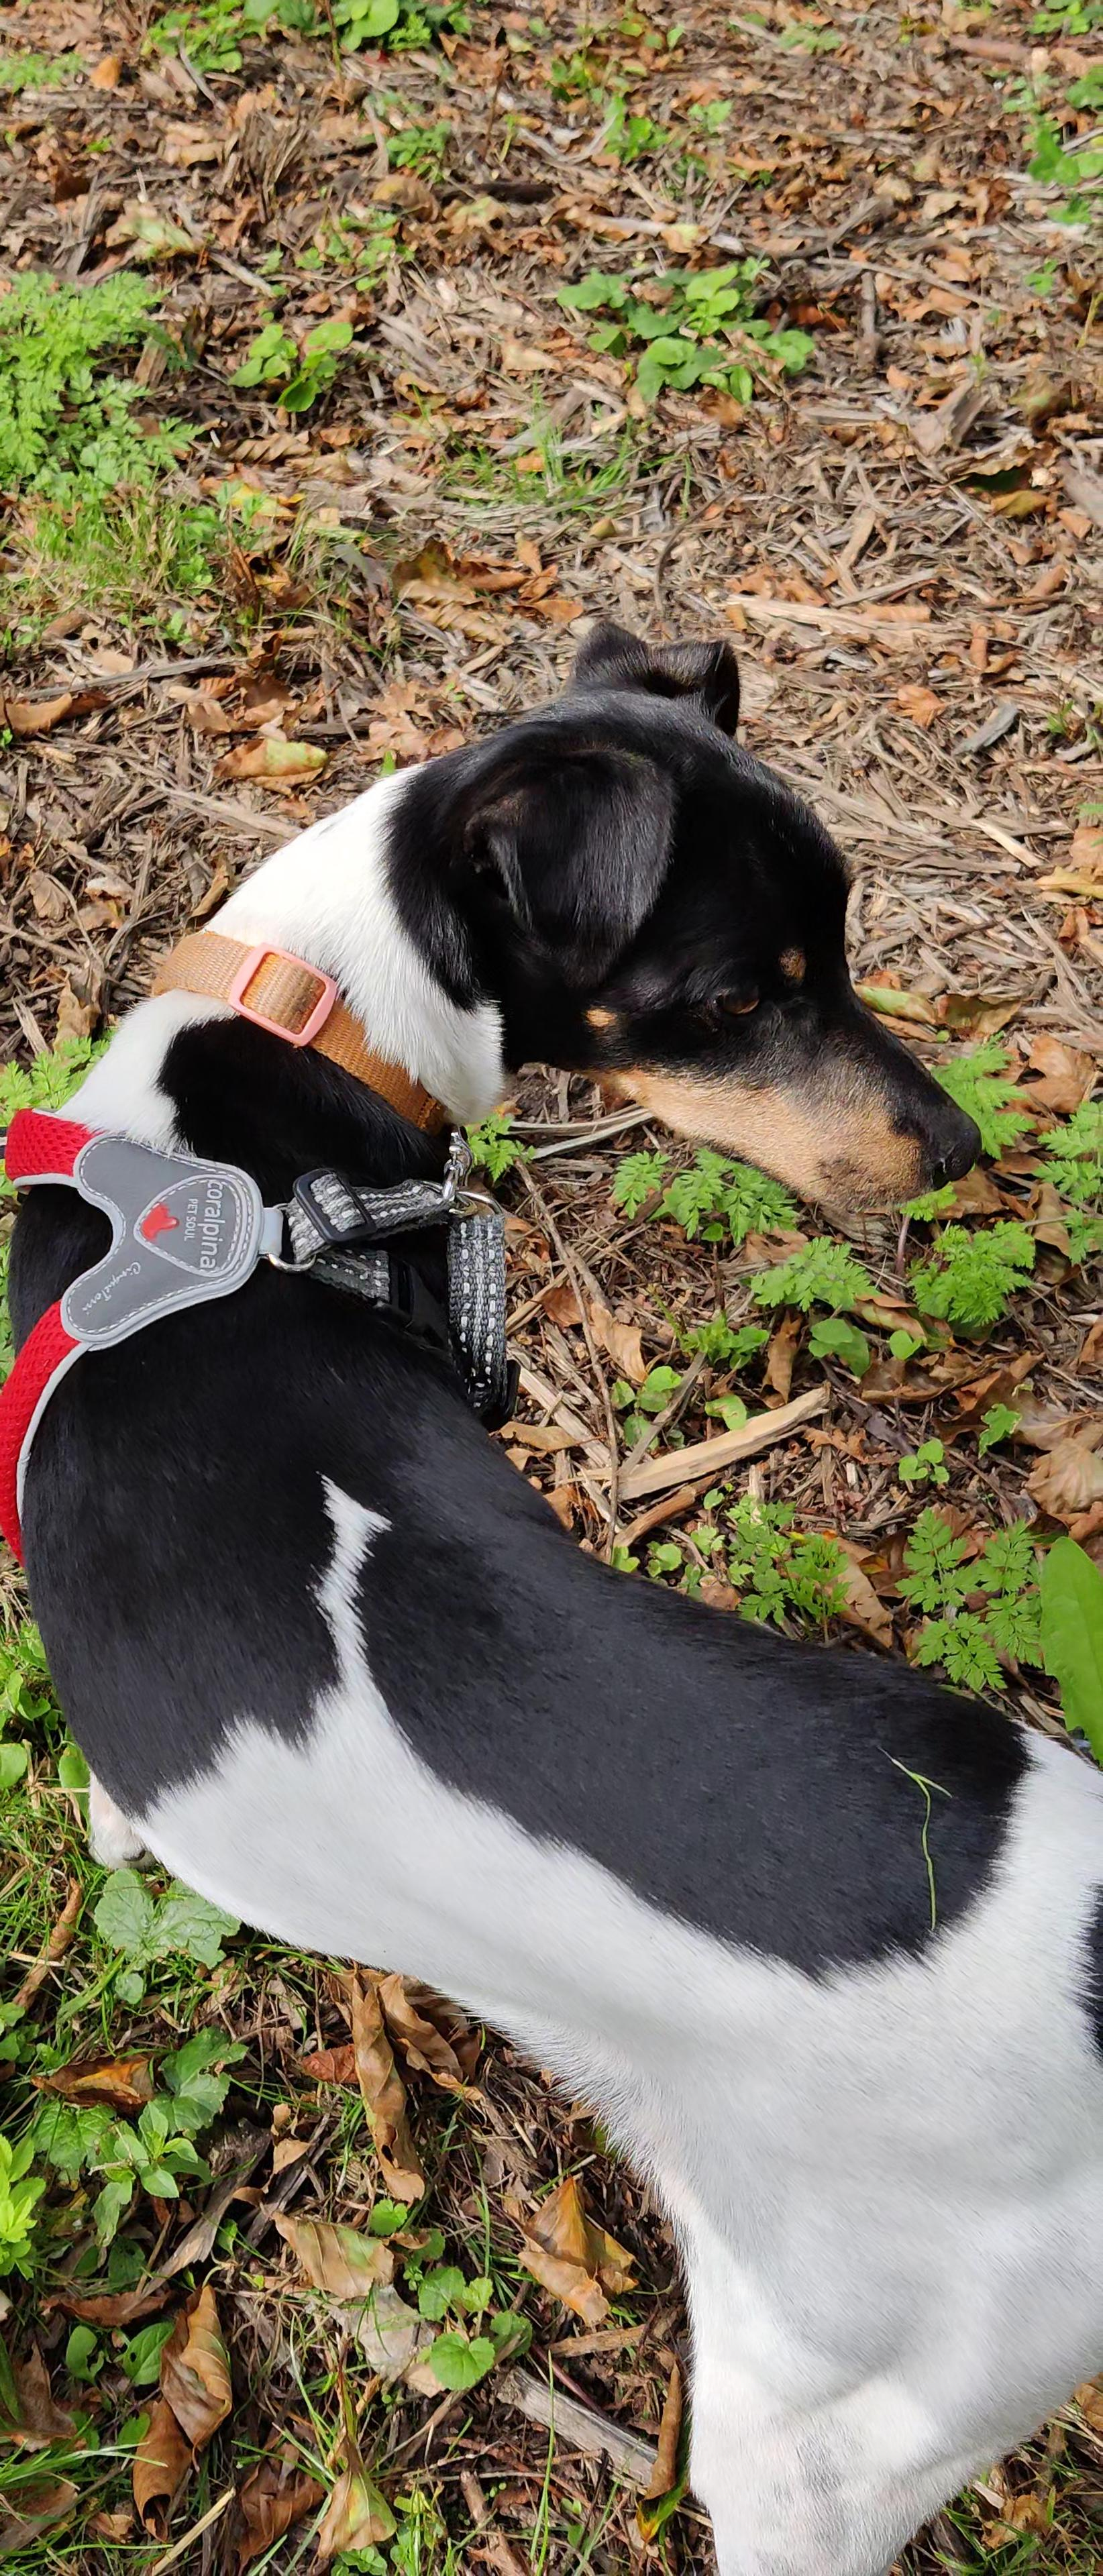Dog: (0, 609, 1103, 2576)
